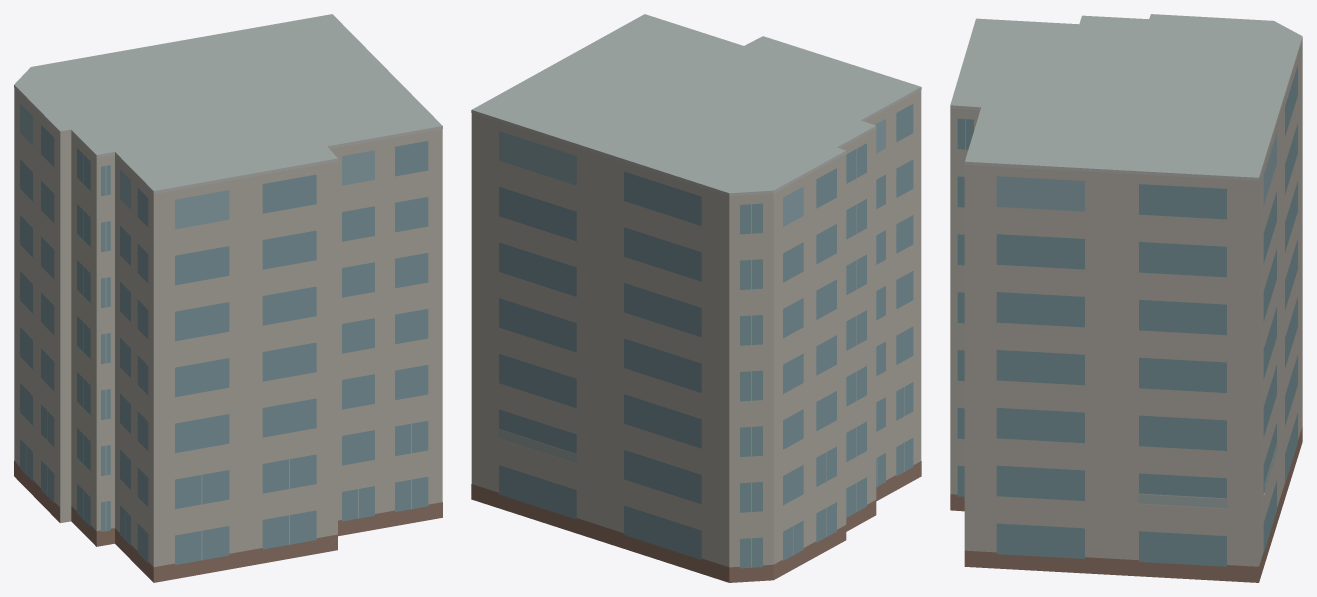
Rendered from survey-upis-32984040.glb.
3 views of the same model, side by side, from view 1: azimuth 30°, elevation 25°; view 2: azimuth 150°, elevation 25°; view 3: azimuth 270°, elevation 25° (orthographic). The views are drawn at different scales.
Parts seen in each view (by area): view 1: survey-upis-32984040.tmp; view 2: survey-upis-32984040.tmp; view 3: survey-upis-32984040.tmp.
Boxes of the visible parts, bbox=[...] form: survey-upis-32984040.tmp: bbox=[14, 14, 442, 582]; survey-upis-32984040.tmp: bbox=[471, 14, 921, 582]; survey-upis-32984040.tmp: bbox=[950, 14, 1302, 582].
Size of the model in its own units: 26.54 by 30.6 by 24.14.
